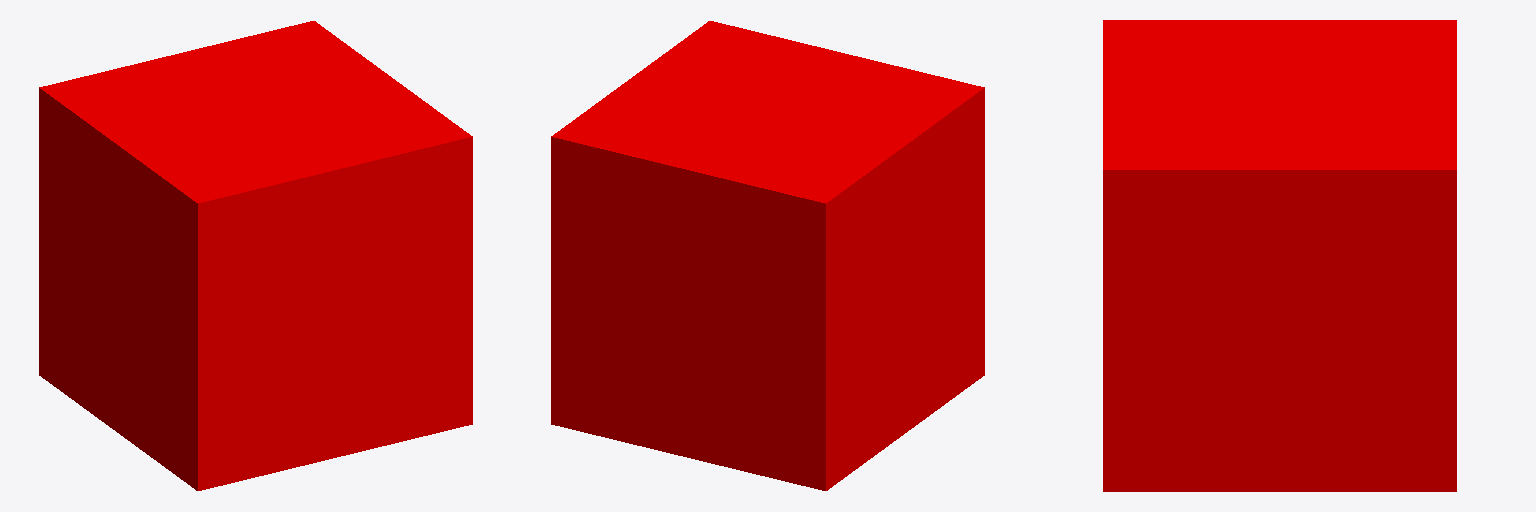
The robot description file, URDF, robot "frbot":
<?xml version="1.0" ?>
<!-- =================================================================================== -->
<!-- |    This document was autogenerated by xacro from src/robot_description/urdf/mobile_manipulator_moveit.urdf.xacro | -->
<!-- |    EDITING THIS FILE BY HAND IS NOT RECOMMENDED                                 | -->
<!-- =================================================================================== -->
<robot name="frbot">
  <!-- Specify some standard inertial calculations https://en.wikipedia.org/wiki/List_of_moments_of_inertia -->
  <!-- These make use of xacro's mathematical functionality -->
  <!-- ==================== MATERIALS ==================== -->
  <material name="dark_grey">
    <color rgba="0.2 0.2 0.2 1.0"/>
  </material>
  <material name="light_grey">
    <color rgba="0.4 0.4 0.4 1.0"/>
  </material>
  <material name="black">
    <color rgba="0.15 0.15 0.15 1.0"/>
  </material>
  <!-- ==================== MOBILE BASE ==================== -->
  <link name="base_link"/>
  <joint name="base_link_joint" type="fixed">
    <origin rpy="0 0 0" xyz="0 0 0"/>
    <parent link="base_link"/>
    <child link="chassis_link"/>
  </joint>
  <link name="chassis_link">
    <visual>
      <origin rpy="0 0 0" xyz="0 0 0"/>
      <geometry>
        <mesh filename="file://[local-path]/frbot_ws/install/robot_description/share/robot_description/meshes/robot_chassis.stl" scale="0.001 0.001 0.001"/>
      </geometry>
      <material name="dark_grey"/>
    </visual>
    <collision>
      <origin rpy="0 0 0" xyz="0 0 0.085"/>
      <geometry>
        <box size="0.60 0.46 0.235"/>
      </geometry>
    </collision>
    <inertial>
      <origin rpy="0 0 0" xyz="0.012 0.002 0.067"/>
      <mass value="16.523"/>
      <inertia ixx="0.3136" ixy="-0.0008" ixz="0.0164" iyy="0.3922" iyz="-0.0009" izz="0.4485"/>
    </inertial>
  </link>
  <!-- ==================== WHEELS ==================== -->
  <!-- Front Left Wheel -->
  <link name="front_left_wheel_link">
    <visual>
      <origin rpy="0 0 0" xyz="0 0 0"/>
      <geometry>
        <mesh filename="file://[local-path]/frbot_ws/install/robot_description/share/robot_description/meshes/left_wheel.stl" scale="0.001 0.001 0.001"/>
      </geometry>
      <material name="black"/>
    </visual>
    <collision>
      <origin rpy="1.5708 0 0" xyz="0 0 0"/>
      <geometry>
        <cylinder length="0.04" radius="0.098"/>
      </geometry>
    </collision>
    <inertial>
      <origin rpy="0 0 0" xyz="0 0 0"/>
      <mass value="0.477"/>
      <inertia ixx="0.0013" ixy="0" ixz="0" iyy="0.0024" iyz="0" izz="0.0013"/>
    </inertial>
  </link>
  <joint name="front_left_wheel_joint" type="continuous">
    <parent link="chassis_link"/>
    <child link="front_left_wheel_link"/>
    <origin rpy="0 0 0" xyz="0.220 0.160 0.033"/>
    <axis xyz="0 1 0"/>
  </joint>
  <!-- Front Right Wheel -->
  <link name="front_right_wheel_link">
    <visual>
      <origin rpy="0 0 0" xyz="0 0 0"/>
      <geometry>
        <mesh filename="file://[local-path]/frbot_ws/install/robot_description/share/robot_description/meshes/right_wheel.stl" scale="0.001 0.001 0.001"/>
      </geometry>
      <material name="black"/>
    </visual>
    <collision>
      <origin rpy="1.5708 0 0" xyz="0 0 0"/>
      <geometry>
        <cylinder length="0.04" radius="0.098"/>
      </geometry>
    </collision>
    <inertial>
      <origin rpy="0 0 0" xyz="0 0 0"/>
      <mass value="0.477"/>
      <inertia ixx="0.0013" ixy="0" ixz="0" iyy="0.0024" iyz="0" izz="0.0013"/>
    </inertial>
  </link>
  <joint name="front_right_wheel_joint" type="continuous">
    <parent link="chassis_link"/>
    <child link="front_right_wheel_link"/>
    <origin rpy="0 0 0" xyz="0.220 -0.160 0.033"/>
    <axis xyz="0 1 0"/>
  </joint>
  <!-- Rear Left Wheel -->
  <link name="rear_left_wheel_link">
    <visual>
      <origin rpy="0 0 0" xyz="0 0 0"/>
      <geometry>
        <mesh filename="file://[local-path]/frbot_ws/install/robot_description/share/robot_description/meshes/left_wheel.stl" scale="0.001 0.001 0.001"/>
      </geometry>
      <material name="black"/>
    </visual>
    <collision>
      <origin rpy="1.5708 0 0" xyz="0 0 0"/>
      <geometry>
        <cylinder length="0.04" radius="0.098"/>
      </geometry>
    </collision>
    <inertial>
      <origin rpy="0 0 0" xyz="0 0 0"/>
      <mass value="0.477"/>
      <inertia ixx="0.0013" ixy="0" ixz="0" iyy="0.0024" iyz="0" izz="0.0013"/>
    </inertial>
  </link>
  <joint name="rear_left_wheel_joint" type="continuous">
    <parent link="chassis_link"/>
    <child link="rear_left_wheel_link"/>
    <origin rpy="0 0 0" xyz="-0.220 0.160 0.033"/>
    <axis xyz="0 1 0"/>
  </joint>
  <!-- Rear Right Wheel -->
  <link name="rear_right_wheel_link">
    <visual>
      <origin rpy="0 0 0" xyz="0 0 0"/>
      <geometry>
        <mesh filename="file://[local-path]/frbot_ws/install/robot_description/share/robot_description/meshes/right_wheel.stl" scale="0.001 0.001 0.001"/>
      </geometry>
      <material name="black"/>
    </visual>
    <collision>
      <origin rpy="1.5708 0 0" xyz="0 0 0"/>
      <geometry>
        <cylinder length="0.04" radius="0.098"/>
      </geometry>
    </collision>
    <inertial>
      <origin rpy="0 0 0" xyz="0 0 0"/>
      <mass value="0.477"/>
      <inertia ixx="0.0013" ixy="0" ixz="0" iyy="0.0024" iyz="0" izz="0.0013"/>
    </inertial>
  </link>
  <joint name="rear_right_wheel_joint" type="continuous">
    <parent link="chassis_link"/>
    <child link="rear_right_wheel_link"/>
    <origin rpy="0 0 0" xyz="-0.220 -0.160 0.033"/>
    <axis xyz="0 1 0"/>
  </joint>
  <!-- ==================== SENSORS ==================== -->
  <!-- IMU -->
  <joint name="imu_joint" type="fixed">
    <parent link="chassis_link"/>
    <child link="imu_link"/>
    <origin rpy="0 0 0" xyz="0.300 0 0.215"/>
  </joint>
  <link name="imu_link"/>
  <!-- Camera -->
  <joint name="camera_joint" type="fixed">
    <parent link="chassis_link"/>
    <child link="camera_link"/>
    <origin rpy="0 0 0" xyz="0.300 0 0.215"/>
  </joint>
  <link name="camera_link">
    <visual>
      <geometry>
        <mesh filename="file://[local-path]/frbot_ws/install/robot_description/share/robot_description/meshes/D455.stl" scale="0.001 0.001 0.001"/>
      </geometry>
      <material name="light_grey"/>
    </visual>
    <collision>
      <geometry>
        <mesh filename="file://[local-path]/frbot_ws/install/robot_description/share/robot_description/meshes/D455.stl" scale="0.001 0.001 0.001"/>
      </geometry>
    </collision>
  </link>
  <joint name="camera_sensor_joint" type="fixed">
    <parent link="camera_link"/>
    <child link="camera_sensor_link"/>
    <origin rpy="0 0 0" xyz="0.03 0 0"/>
  </joint>
  <link name="camera_sensor_link"/>
  <!-- LiDAR -->
  <joint name="lidar_mount_joint" type="fixed">
    <parent link="chassis_link"/>
    <child link="lidar_mount"/>
    <origin rpy="0 0 0" xyz="-0.150 0 0.235"/>
  </joint>
  <link name="lidar_mount">
    <visual>
      <geometry>
        <mesh filename="file://[local-path]/frbot_ws/install/robot_description/share/robot_description/meshes/lidar_mount.stl" scale="0.001 0.001 0.001"/>
      </geometry>
      <material name="dark_grey"/>
    </visual>
    <collision>
      <geometry>
        <mesh filename="file://[local-path]/frbot_ws/install/robot_description/share/robot_description/meshes/lidar_mount.stl" scale="0.001 0.001 0.001"/>
      </geometry>
    </collision>
  </link>
  <link name="VLP16">
    <visual>
      <geometry>
        <mesh filename="file://[local-path]/frbot_ws/install/robot_description/share/robot_description/meshes/VLP16.stl" scale="0.001 0.001 0.001"/>
      </geometry>
      <material name="light_grey"/>
    </visual>
    <collision>
      <geometry>
        <mesh filename="file://[local-path]/frbot_ws/install/robot_description/share/robot_description/meshes/VLP16.stl" scale="0.001 0.001 0.001"/>
      </geometry>
    </collision>
    <inertial>
      <mass value="0.83"/>
      <origin xyz="0 0 0.03585"/>
      <inertia ixx="0.0009" ixy="0" ixz="0" iyy="0.0009" iyz="0" izz="0.0011"/>
    </inertial>
  </link>
  <joint name="lidar_to_lidar_mount" type="fixed">
    <parent link="lidar_mount"/>
    <child link="VLP16"/>
    <origin rpy="0 0 0" xyz="0 0 0.160"/>
  </joint>
  <!-- Specify some standard inertial calculations https://en.wikipedia.org/wiki/List_of_moments_of_inertia -->
  <!-- These make use of xacro's mathematical functionality -->
  <!-- ==================== MATERIALS ==================== -->
  <!-- Arm-specific materials (avoiding duplicates with mobile_base) -->
  <material name="white">
    <color rgba="1 1 1 1"/>
  </material>
  <material name="grey">
    <color rgba="0.2 0.2 0.2 1"/>
  </material>
  <!-- ==================== MANIPULATOR ARM ==================== -->
  <!-- Arm base link (attachment point to mobile base) -->
  <link name="arm_base_link"/>
  <joint name="link1_to_arm_base" type="fixed">
    <parent link="arm_base_link"/>
    <child link="link1"/>
    <origin rpy="0 0 0" xyz="0 0 0"/>
  </joint>
  <link name="link1">
    <visual>
      <origin rpy="0 0 0" xyz="0 0 0"/>
      <geometry>
        <mesh filename="file://[local-path]/frbot_ws/install/robot_description/share/robot_description/meshes/link1.stl" scale="0.001 0.001 0.001"/>
      </geometry>
      <material name="white"/>
    </visual>
    <collision>
      <origin rpy="0 0 0" xyz="0 0 0"/>
      <geometry>
        <mesh filename="file://[local-path]/frbot_ws/install/robot_description/share/robot_description/meshes/link1.stl" scale="0.001 0.001 0.001"/>
      </geometry>
    </collision>
    <inertial>
      <origin rpy="0 0 0" xyz="0 0 0.0305"/>
      <mass value="0.35"/>
      <inertia ixx="0.00020095104166666664" ixy="0.0" ixz="0.0" iyy="0.00020095104166666664" iyz="0.0" izz="0.00018484375"/>
    </inertial>
  </link>
  <joint name="link2_to_link1" type="continuous">
    <parent link="link1"/>
    <child link="link2"/>
    <origin rpy="0 0 0" xyz="0 0 0.06"/>
    <axis xyz="0 0 1"/>
    <dynamics damping="0.1"/>
  </joint>
  <link name="link2">
    <visual>
      <origin rpy="0 0 0" xyz="0 0 0"/>
      <geometry>
        <mesh filename="file://[local-path]/frbot_ws/install/robot_description/share/robot_description/meshes/link2.stl" scale="0.001 0.001 0.001"/>
      </geometry>
      <material name="white"/>
    </visual>
    <collision>
      <origin rpy="0 0 0" xyz="0 0 0"/>
      <geometry>
        <mesh filename="file://[local-path]/frbot_ws/install/robot_description/share/robot_description/meshes/link2.stl" scale="0.001 0.001 0.001"/>
      </geometry>
    </collision>
    <inertial>
      <origin rpy="0 0 0" xyz="0 0 0"/>
      <mass value="0.35"/>
      <inertia ixx="0.00024645833333333334" ixy="0.0" ixz="0.0" iyy="0.00024645833333333334" iyz="0.0" izz="0.00024645833333333334"/>
    </inertial>
  </link>
  <joint name="link3_to_link2" type="revolute">
    <parent link="link2"/>
    <child link="link3"/>
    <origin rpy="0 0 0" xyz="0 0.0325 0.0835"/>
    <axis xyz="0 1 0"/>
    <limit effort="100" lower="-3.14" upper="3.14" velocity="100"/>
    <dynamics damping="0.1"/>
  </joint>
  <link name="link3">
    <visual>
      <origin rpy="0 0 0" xyz="0 0 0"/>
      <geometry>
        <mesh filename="file://[local-path]/frbot_ws/install/robot_description/share/robot_description/meshes/link3.stl" scale="0.001 0.001 0.001"/>
      </geometry>
      <material name="white"/>
    </visual>
    <collision>
      <origin rpy="0 0 0" xyz="0 0 0"/>
      <geometry>
        <mesh filename="file://[local-path]/frbot_ws/install/robot_description/share/robot_description/meshes/link3.stl" scale="0.001 0.001 0.001"/>
      </geometry>
    </collision>
    <inertial>
      <origin rpy="0 0 0" xyz="0 0 0.10250000000000001"/>
      <mass value="0.3"/>
      <inertia ixx="0.0019281250000000002" ixy="0.0" ixz="0.0" iyy="0.0019281250000000002" iyz="0.0" izz="0.00021125"/>
    </inertial>
  </link>
  <joint name="link4_to_link3" type="revolute">
    <parent link="link3"/>
    <child link="link4"/>
    <origin rpy="0 0 0" xyz="0 0 0.230"/>
    <axis xyz="0 1 0"/>
    <limit effort="100" lower="-3.14" upper="3.14" velocity="100"/>
    <dynamics damping="0.1"/>
  </joint>
  <link name="link4">
    <visual>
      <origin rpy="0 0 0" xyz="0 0 0"/>
      <geometry>
        <mesh filename="file://[local-path]/frbot_ws/install/robot_description/share/robot_description/meshes/link4.stl" scale="0.001 0.001 0.001"/>
      </geometry>
      <material name="white"/>
    </visual>
    <collision>
      <origin rpy="0 0 0" xyz="0 0 0"/>
      <geometry>
        <mesh filename="file://[local-path]/frbot_ws/install/robot_description/share/robot_description/meshes/link4.stl" scale="0.001 0.001 0.001"/>
      </geometry>
    </collision>
    <inertial>
      <origin rpy="0 0 0" xyz="0 0 0"/>
      <mass value="0.35"/>
      <inertia ixx="0.00024645833333333334" ixy="0.0" ixz="0.0" iyy="0.00024645833333333334" iyz="0.0" izz="0.00024645833333333334"/>
    </inertial>
  </link>
  <joint name="gripper_to_link4" type="revolute">
    <parent link="link4"/>
    <child link="gripper_base"/>
    <origin rpy="0 -1.5707 0" xyz="0 -0.0325 0.225"/>
    <axis xyz="1 0 0"/>
    <limit effort="100" lower="-3.14" upper="3.14" velocity="100"/>
    <dynamics damping="0.1"/>
  </joint>
  <link name="gripper_base">
    <visual>
      <origin rpy="0 0 0" xyz="0 0 -0.01"/>
      <geometry>
        <mesh filename="file://[local-path]/frbot_ws/install/robot_description/share/robot_description/meshes/link5.stl" scale="0.001 0.001 0.001"/>
      </geometry>
      <material name="white"/>
    </visual>
    <collision>
      <origin rpy="0 0 0" xyz="0 0 -0.01"/>
      <geometry>
        <mesh filename="file://[local-path]/frbot_ws/install/robot_description/share/robot_description/meshes/link5.stl" scale="0.001 0.001 0.001"/>
      </geometry>
    </collision>
    <inertial>
      <origin rpy="0 0 0" xyz="0.04 0 0"/>
      <mass value="0.16"/>
      <inertia ixx="5.466666666666667e-05" ixy="0.0" ixz="0.0" iyy="0.00010666666666666667" iyz="0.0" izz="0.00011866666666666669"/>
    </inertial>
  </link>
  <joint name="gripper_left_joint" type="prismatic">
    <parent link="gripper_base"/>
    <child link="gripper_left_link"/>
    <origin rpy="0 0 0" xyz="0.0817 0.021 0"/>
    <axis xyz="0 1 0"/>
    <limit effort="1000" lower="-0.010" upper="0.019" velocity="4.8"/>
    <dynamics damping="0.1"/>
  </joint>
  <link name="gripper_left_link">
    <visual>
      <origin rpy="0 0 0" xyz="0 0 0"/>
      <geometry>
        <mesh filename="file://[local-path]/frbot_ws/install/robot_description/share/robot_description/meshes/gripper_left_palm.stl" scale="0.001 0.001 0.001"/>
      </geometry>
      <material name="white"/>
    </visual>
    <collision>
      <origin rpy="0 0 0" xyz="0 0 0"/>
      <geometry>
        <mesh filename="file://[local-path]/frbot_ws/install/robot_description/share/robot_description/meshes/gripper_left_palm.stl" scale="0.001 0.001 0.001"/>
      </geometry>
    </collision>
    <inertial>
      <origin rpy="0 0 0" xyz="0 0 0"/>
      <mass value="0.02"/>
      <inertia ixx="3.3333333333333335e-07" ixy="0.0" ixz="0.0" iyy="4.333333333333334e-06" iyz="0.0" izz="4.333333333333334e-06"/>
    </inertial>
  </link>
  <joint name="gripper_right_joint" type="prismatic">
    <parent link="gripper_base"/>
    <child link="gripper_right_link"/>
    <origin rpy="0 0 0" xyz="0.0817 -0.021 0"/>
    <axis xyz="0 -1 0"/>
    <limit effort="1000" lower="-0.010" upper="0.019" velocity="4.8"/>
    <dynamics damping="0.1"/>
    <mimic joint="gripper_left_joint" multiplier="1"/>
  </joint>
  <link name="gripper_right_link">
    <visual>
      <origin rpy="0 0 0" xyz="0 0 0"/>
      <geometry>
        <mesh filename="file://[local-path]/frbot_ws/install/robot_description/share/robot_description/meshes/gripper_right_palm.stl" scale="0.001 0.001 0.001"/>
      </geometry>
      <material name="white"/>
    </visual>
    <collision>
      <origin rpy="0 0 0" xyz="0 0 0"/>
      <geometry>
        <mesh filename="file://[local-path]/frbot_ws/install/robot_description/share/robot_description/meshes/gripper_right_palm.stl" scale="0.001 0.001 0.001"/>
      </geometry>
    </collision>
    <inertial>
      <origin rpy="0 0 0" xyz="0 0 0"/>
      <mass value="0.02"/>
      <inertia ixx="3.3333333333333335e-07" ixy="0.0" ixz="0.0" iyy="4.333333333333334e-06" iyz="0.0" izz="4.333333333333334e-06"/>
    </inertial>
  </link>
  <joint name="end_effector_joint" type="fixed">
    <parent link="gripper_base"/>
    <child link="end_effector_link"/>
    <origin rpy="0 0 0" xyz="0.126 0.0 0.0"/>
  </joint>
  <link name="end_effector_link">
    <visual>
      <origin rpy="0 0 0" xyz="0 0 0"/>
      <geometry>
        <box size="0.01 0.01 0.01"/>
      </geometry>
      <material name="red">
        <color rgba="1.0 0.0 0.0 1"/>
      </material>
    </visual>
    <collision>
      <origin rpy="0 0 0" xyz="0 0 0"/>
      <geometry>
        <box size="0.01 0.01 0.01"/>
      </geometry>
    </collision>
    <inertial>
      <origin rpy="0 0 0" xyz="0 0 0"/>
      <mass value="0.001"/>
      <inertia ixx="1.6666666666666667e-08" ixy="0.0" ixz="0.0" iyy="1.6666666666666667e-08" iyz="0.0" izz="1.6666666666666667e-08"/>
    </inertial>
  </link>
  <joint name="d405_to_gripper_base" type="fixed">
    <parent link="gripper_base"/>
    <child link="d405"/>
    <origin rpy="0 0 0" xyz="0.038 0 0.05"/>
  </joint>
  <link name="d405">
    <visual>
      <origin rpy="0 0 0" xyz="0 0 0"/>
      <geometry>
        <mesh filename="file://[local-path]/frbot_ws/install/robot_description/share/robot_description/meshes/d405.stl" scale="0.001 0.001 0.001"/>
      </geometry>
      <material name="grey"/>
    </visual>
    <collision>
      <origin rpy="0 0 0" xyz="0 0 0"/>
      <geometry>
        <mesh filename="file://[local-path]/frbot_ws/install/robot_description/share/robot_description/meshes/d405.stl" scale="0.001 0.001 0.001"/>
      </geometry>
    </collision>
    <inertial>
      <origin rpy="0 0 0" xyz="0 0 0"/>
      <mass value="0.1"/>
      <inertia ixx="4.166666666666667e-05" ixy="0.0" ixz="0.0" iyy="4.166666666666667e-05" iyz="0.0" izz="4.166666666666667e-05"/>
    </inertial>
  </link>
  <joint name="d405_optical_joint" type="fixed">
    <parent link="d405"/>
    <child link="d405_optical_frame"/>
    <origin rpy="0 0 0" xyz="0.023 0 0"/>
  </joint>
  <link name="d405_optical_frame"/>
  <!-- Connect arm to mobile base -->
  <joint name="mobile_arm_joint" type="fixed">
    <parent link="chassis_link"/>
    <child link="arm_base_link"/>
    <origin rpy="0 0 0" xyz="0.2 0.0 0.235"/>
  </joint>
  <!-- Arm Hardware System -->
  <ros2_control name="arm_hardware_system" type="system">
    <hardware>
      <plugin>mock_components/GenericSystem</plugin>
    </hardware>
    <!-- Arm joints -->
    <joint name="link2_to_link1">
      <command_interface name="position"/>
      <state_interface name="position">
        <param name="initial_value">0.0</param>
      </state_interface>
      <state_interface name="velocity"/>
    </joint>
    <joint name="link3_to_link2">
      <command_interface name="position"/>
      <state_interface name="position">
        <param name="initial_value">0.0</param>
      </state_interface>
      <state_interface name="velocity"/>
    </joint>
    <joint name="link4_to_link3">
      <command_interface name="position"/>
      <state_interface name="position">
        <param name="initial_value">0.0</param>
      </state_interface>
      <state_interface name="velocity"/>
    </joint>
    <joint name="gripper_to_link4">
      <command_interface name="position"/>
      <state_interface name="position">
        <param name="initial_value">0.0</param>
      </state_interface>
      <state_interface name="velocity"/>
    </joint>
  </ros2_control>
  <!-- Gripper Hardware System -->
  <ros2_control name="gripper_hardware_system" type="system">
    <hardware>
      <plugin>mock_components/GenericSystem</plugin>
    </hardware>
    <joint name="gripper_left_joint">
      <command_interface name="position"/>
      <state_interface name="position">
        <param name="initial_value">0.0</param>
      </state_interface>
      <state_interface name="velocity"/>
    </joint>
    <joint name="gripper_right_joint">
      <command_interface name="position"/>
      <state_interface name="position">
        <param name="initial_value">0.0</param>
      </state_interface>
      <state_interface name="velocity"/>
    </joint>
  </ros2_control>
  <!-- World link for MoveIt -->
  <link name="world"/>
  <!-- Fixed joint to connect world to base -->
  <joint name="world_to_base" type="fixed">
    <parent link="world"/>
    <child link="base_link"/>
    <origin rpy="0 0 0" xyz="0 0 0"/>
  </joint>
</robot>

--- Facts derived from the render (not from the file) ---
Views: 3 orthographic renders of the robot side by side, from view 1: azimuth 30°, elevation 25°; view 2: azimuth 150°, elevation 25°; view 3: azimuth 270°, elevation 25°.
Model frbot with 23 links and 22 joints (3 revolute, 5 continuous, 2 prismatic, 12 fixed), rooted at world, posed every joint at zero.
Visible links, largest first — view 1: end_effector_link; view 2: end_effector_link; view 3: end_effector_link.
Boxes of the visible links, <box> form: end_effector_link: <box>39,21,472,490</box>; end_effector_link: <box>551,21,984,490</box>; end_effector_link: <box>1103,20,1456,491</box>.
Size in the robot's own frame: 0.01 by 0.01 by 0.01 metres.
Geometry: only primitive shapes (box / cylinder / sphere) drawn; not drawn: 16 mesh visuals (reference in a form the renderer does not follow).